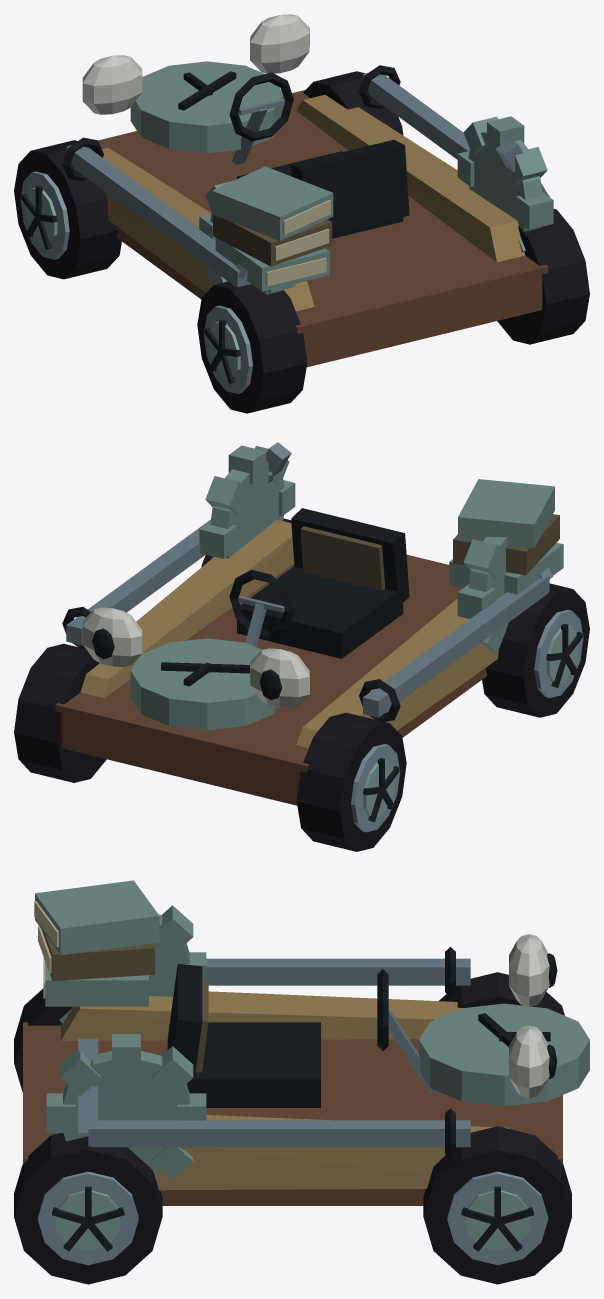
Rendered from kart.glb.
3 views of the same model, one above another, from view 1: azimuth 30°, elevation 25°; view 2: azimuth 150°, elevation 25°; view 3: azimuth 270°, elevation 25° (orthographic). The views are drawn at different scales.
Parts seen in each view (by area): view 1: identity-clockwork-clockwork-brass-escapement, identity-clockwork-motif-books, wheel-rear-left, identity-clockwork-driver-cockpit, identity-clockwork-motif-pipes, wheel-front-left, wheel-rear-right, identity-clockwork-motif-eyes, wheel-front-right; view 2: identity-clockwork-clockwork-brass-escapement, identity-clockwork-driver-cockpit, wheel-front-left, identity-clockwork-motif-pipes, wheel-rear-left, identity-clockwork-motif-books, wheel-front-right, identity-clockwork-motif-eyes; view 3: identity-clockwork-clockwork-brass-escapement, identity-clockwork-motif-pipes, wheel-front-right, wheel-rear-right, identity-clockwork-driver-cockpit, identity-clockwork-motif-books, identity-clockwork-motif-eyes, wheel-front-left, wheel-rear-left.
Boxes of the visible parts, x1,y1,x2,y2 form: identity-clockwork-clockwork-brass-escapement: [98, 61, 553, 367]; identity-clockwork-motif-books: [212, 166, 333, 291]; wheel-rear-left: [197, 281, 307, 413]; identity-clockwork-driver-cockpit: [229, 72, 409, 238]; identity-clockwork-motif-pipes: [62, 65, 549, 287]; wheel-front-left: [14, 140, 121, 279]; wheel-rear-right: [497, 209, 589, 344]; identity-clockwork-motif-eyes: [82, 14, 309, 114]; wheel-front-right: [303, 71, 403, 135]; identity-clockwork-clockwork-brass-escapement: [55, 445, 512, 805]; identity-clockwork-driver-cockpit: [229, 508, 409, 658]; wheel-front-left: [296, 712, 406, 851]; identity-clockwork-motif-pipes: [62, 442, 553, 721]; wheel-rear-left: [482, 583, 589, 717]; identity-clockwork-motif-books: [449, 479, 563, 594]; wheel-front-right: [14, 643, 106, 782]; identity-clockwork-motif-eyes: [82, 607, 309, 707]; identity-clockwork-clockwork-brass-escapement: [23, 905, 589, 1205]; identity-clockwork-motif-pipes: [78, 947, 470, 1158]; wheel-front-right: [423, 1126, 571, 1284]; wheel-rear-right: [14, 1133, 162, 1284]; identity-clockwork-driver-cockpit: [167, 963, 439, 1107]; identity-clockwork-motif-books: [34, 880, 159, 1006]; identity-clockwork-motif-eyes: [509, 934, 557, 1098]; wheel-front-left: [439, 972, 564, 1015]; wheel-rear-left: [14, 988, 71, 1092].
Size of the model in its own units: 1.99 by 1.12 by 2.56.
